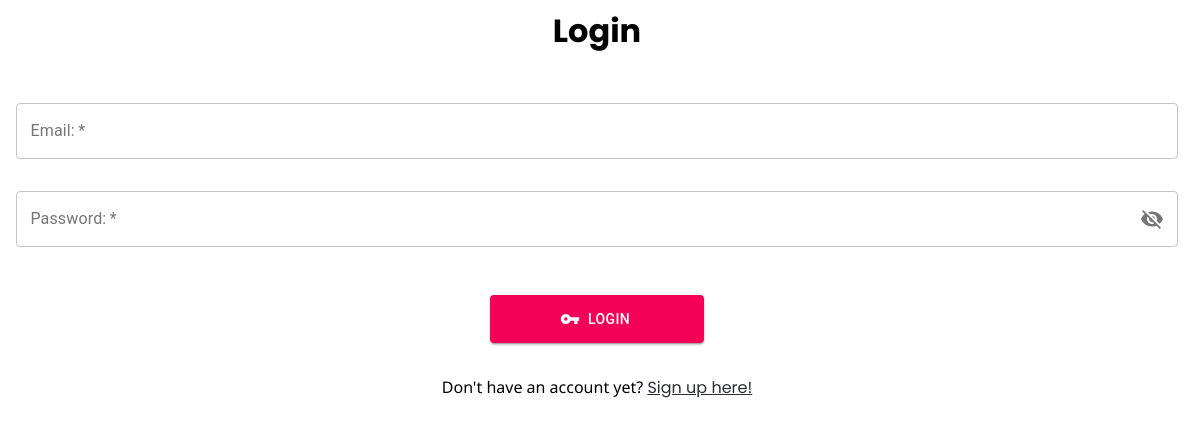
Test: Login › renders an error if email or password is not provided when Login is clicked
Expected: the text box labelled "Email: *" is empty, [30,122,1164,140]
Expected: the password field labelled "Password: *" is empty, [16,191,1120,247]
Click the button "LOGIN" at (597,319), box [490,295,704,343]
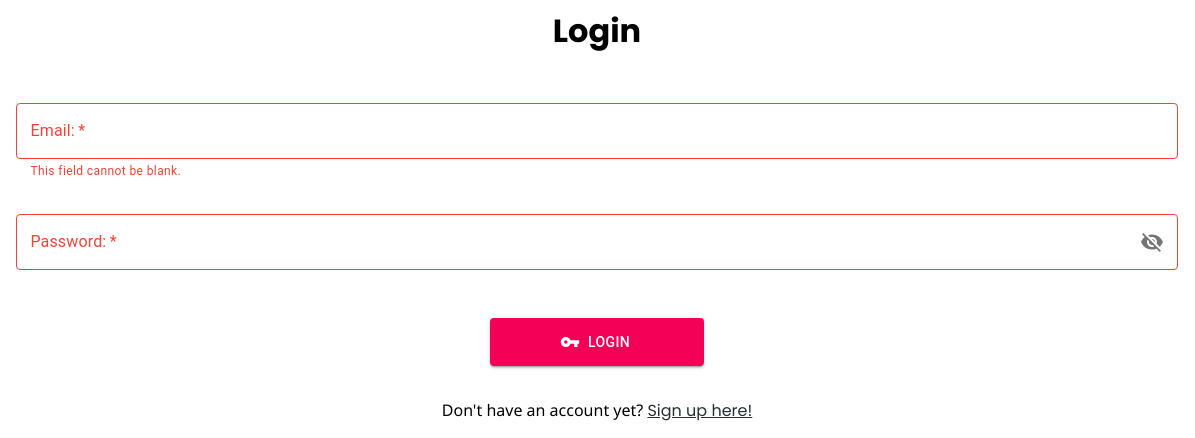
Result: the text "This field cannot be blank." is shown at [30,164,181,178]
